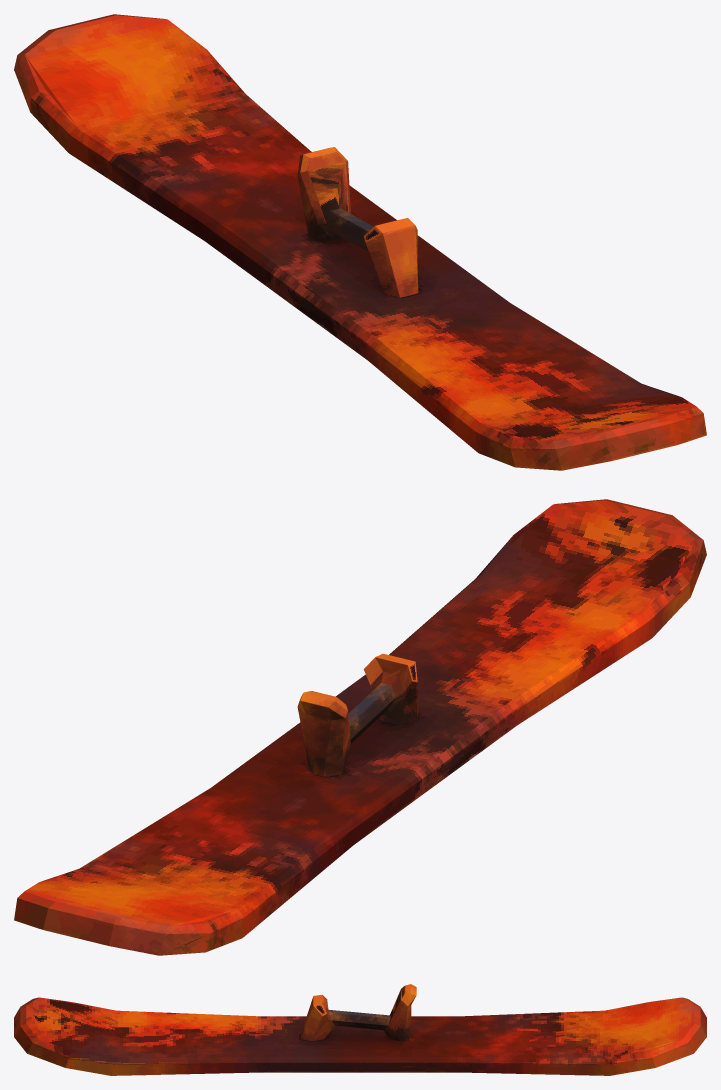
The model's file is item_snowboard_3.glb.
3 views of the same model, one above another, from view 1: azimuth 30°, elevation 25°; view 2: azimuth 150°, elevation 25°; view 3: azimuth 270°, elevation 25° (orthographic). The views are drawn at different scales.
Parts seen in each view (by area): view 1: Snowboard; view 2: Snowboard; view 3: Snowboard.
Boxes of the visible parts, box(x1,y1,x2,y2) form: Snowboard: box(14, 14, 706, 470); Snowboard: box(14, 499, 706, 955); Snowboard: box(14, 984, 706, 1075).
Bounding box in the file's own units: 0.3666 × 0.198 × 2.01.
1 material, 1 textured.
